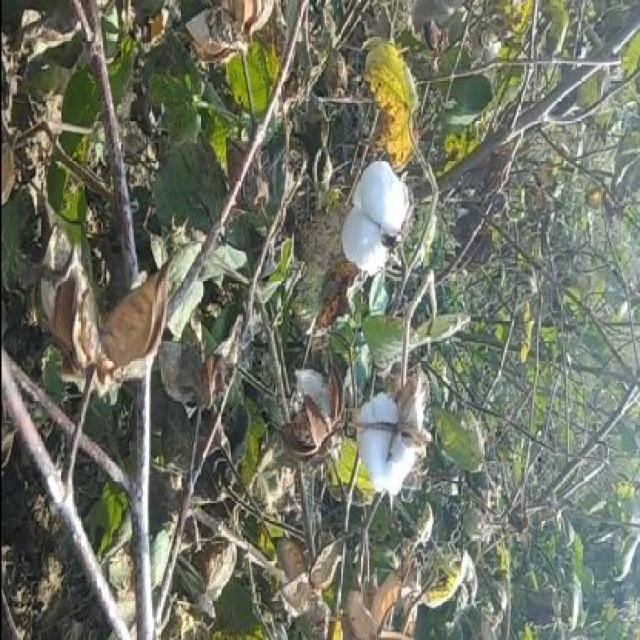cotton_ready: (334, 139, 431, 293), (340, 366, 431, 516)
